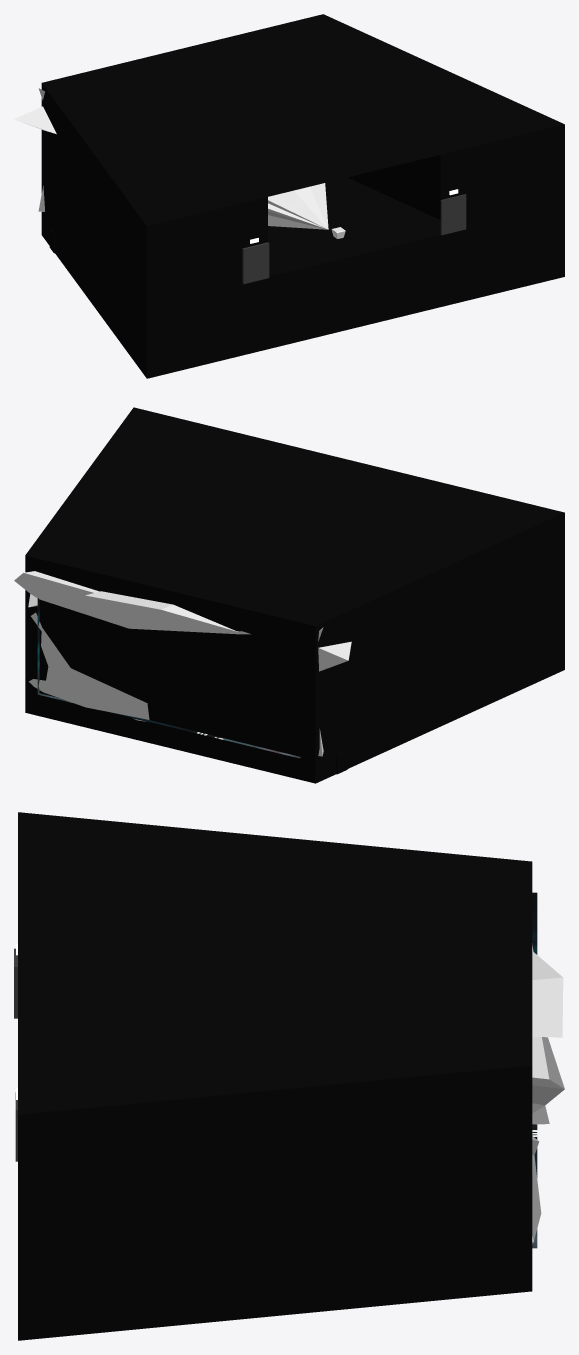
Rendered from hologram.gltf.
3 views of the same model, one above another, from view 1: azimuth 30°, elevation 25°; view 2: azimuth 150°, elevation 25°; view 3: azimuth 270°, elevation 25° (orthographic). The views are drawn at different scales.
Parts seen in each view (by area): view 1: Room, Cone, Rear door 2, Rear door; view 2: Room, Cone, Plane; view 3: Room, Cone.
Boxes of the visible parts, box(x1,y1,x2,y2) form: Room: box(41, 14, 564, 378); Cone: box(14, 88, 328, 229); Rear door 2: box(242, 242, 269, 283); Rear door: box(440, 194, 466, 235); Room: box(25, 407, 564, 783); Cone: box(14, 571, 351, 756); Plane: box(37, 598, 300, 758); Room: box(18, 812, 532, 1340); Cone: box(532, 943, 564, 1243).
Bounding box in the file's own units: 142 × 49.5 × 109.
8 materials, 1 textured.
